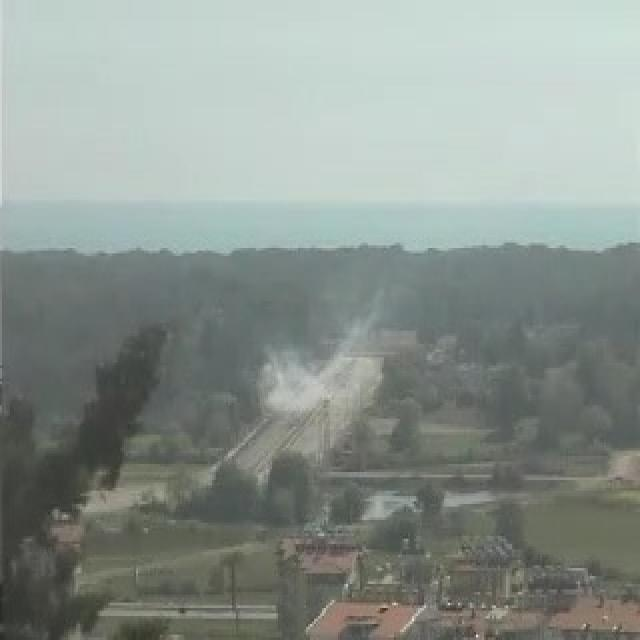smoke: (256, 336, 350, 420)
